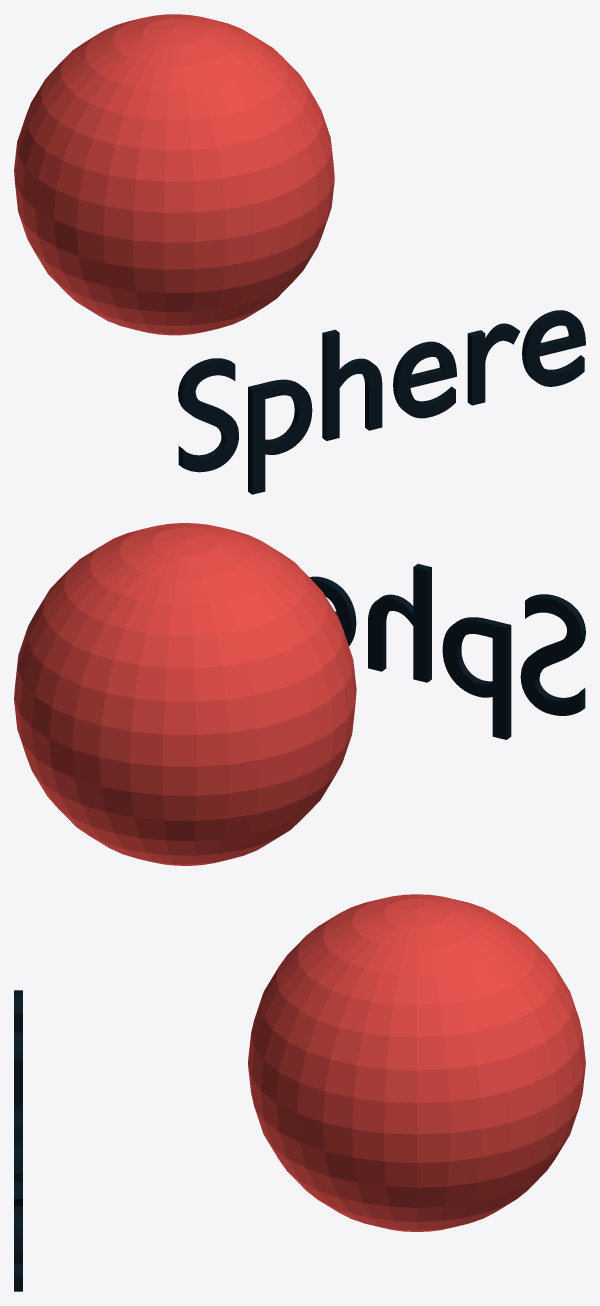
The picture shows the model from 3 angles, top to bottom: view 1: azimuth 30°, elevation 25°; view 2: azimuth 150°, elevation 25°; view 3: azimuth 270°, elevation 25°; orthographic projection. The views are drawn at different scales.
Visible parts, largest first — view 1: Sphere, Text.001; view 2: Sphere, Text.001; view 3: Sphere, Text.001.
Boxes of the visible parts, x1,y1,x2,y2 form: Sphere: [14, 14, 334, 335]; Text.001: [178, 310, 585, 494]; Sphere: [14, 523, 356, 865]; Text.001: [310, 564, 585, 739]; Sphere: [248, 894, 585, 1231]; Text.001: [14, 990, 22, 1291].
Size of the model in its own units: 0.29 by 0.2044 by 0.3383.
